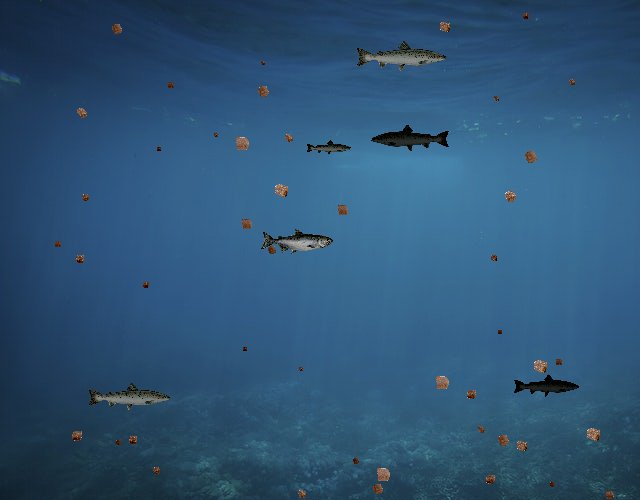Fish: (354, 40, 448, 74), (86, 381, 172, 412), (370, 124, 451, 153), (260, 229, 333, 255), (512, 373, 580, 398), (306, 140, 353, 157)
Pellet: (518, 144, 544, 170), (498, 184, 523, 209), (70, 102, 92, 124), (486, 251, 501, 265), (518, 9, 532, 23), (546, 478, 559, 491), (210, 130, 220, 140)
